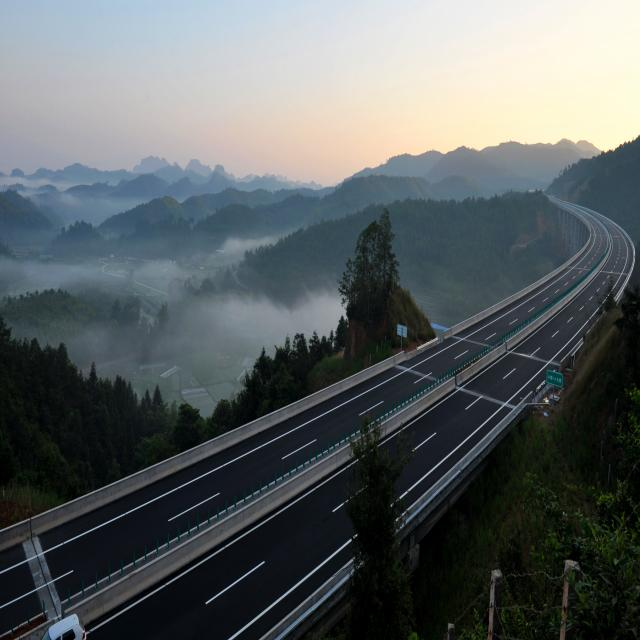point: (537, 175, 564, 217)
